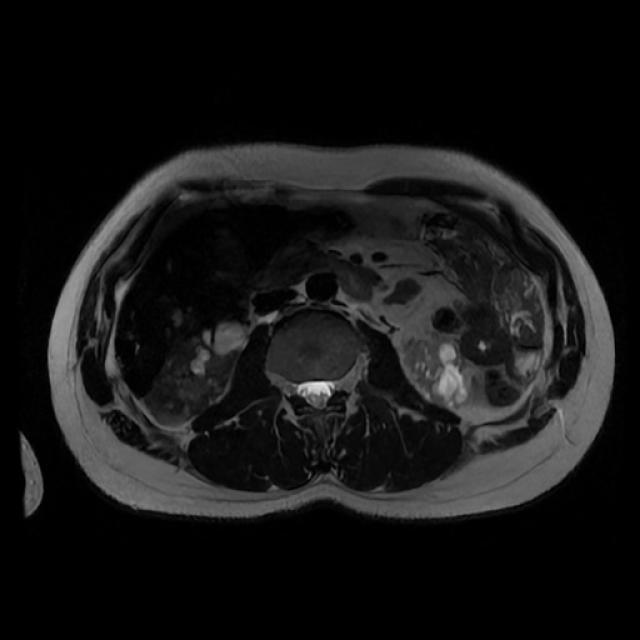sag: (149, 323, 247, 430)
sol: (399, 335, 477, 409)
